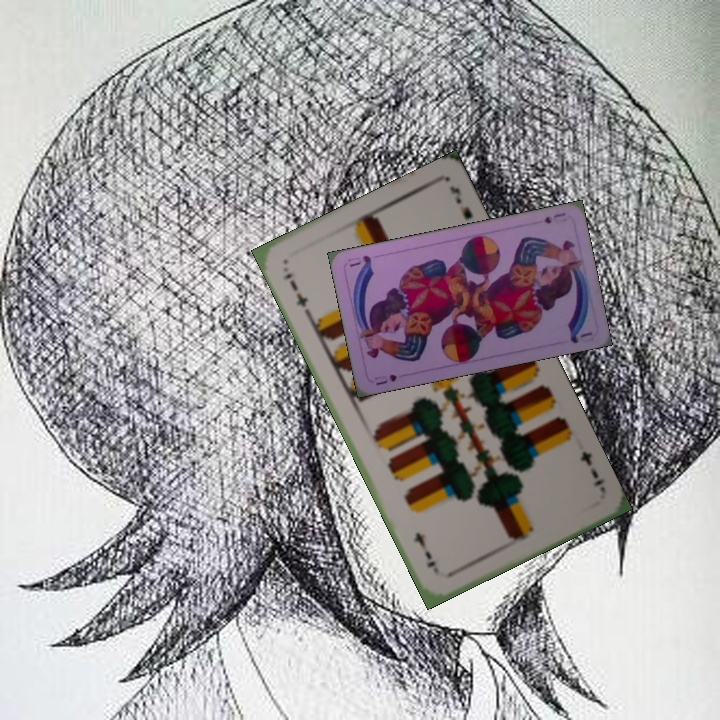E7: (278, 268, 313, 317), (576, 447, 608, 489)
SU: (540, 208, 568, 226), (372, 370, 399, 388)
